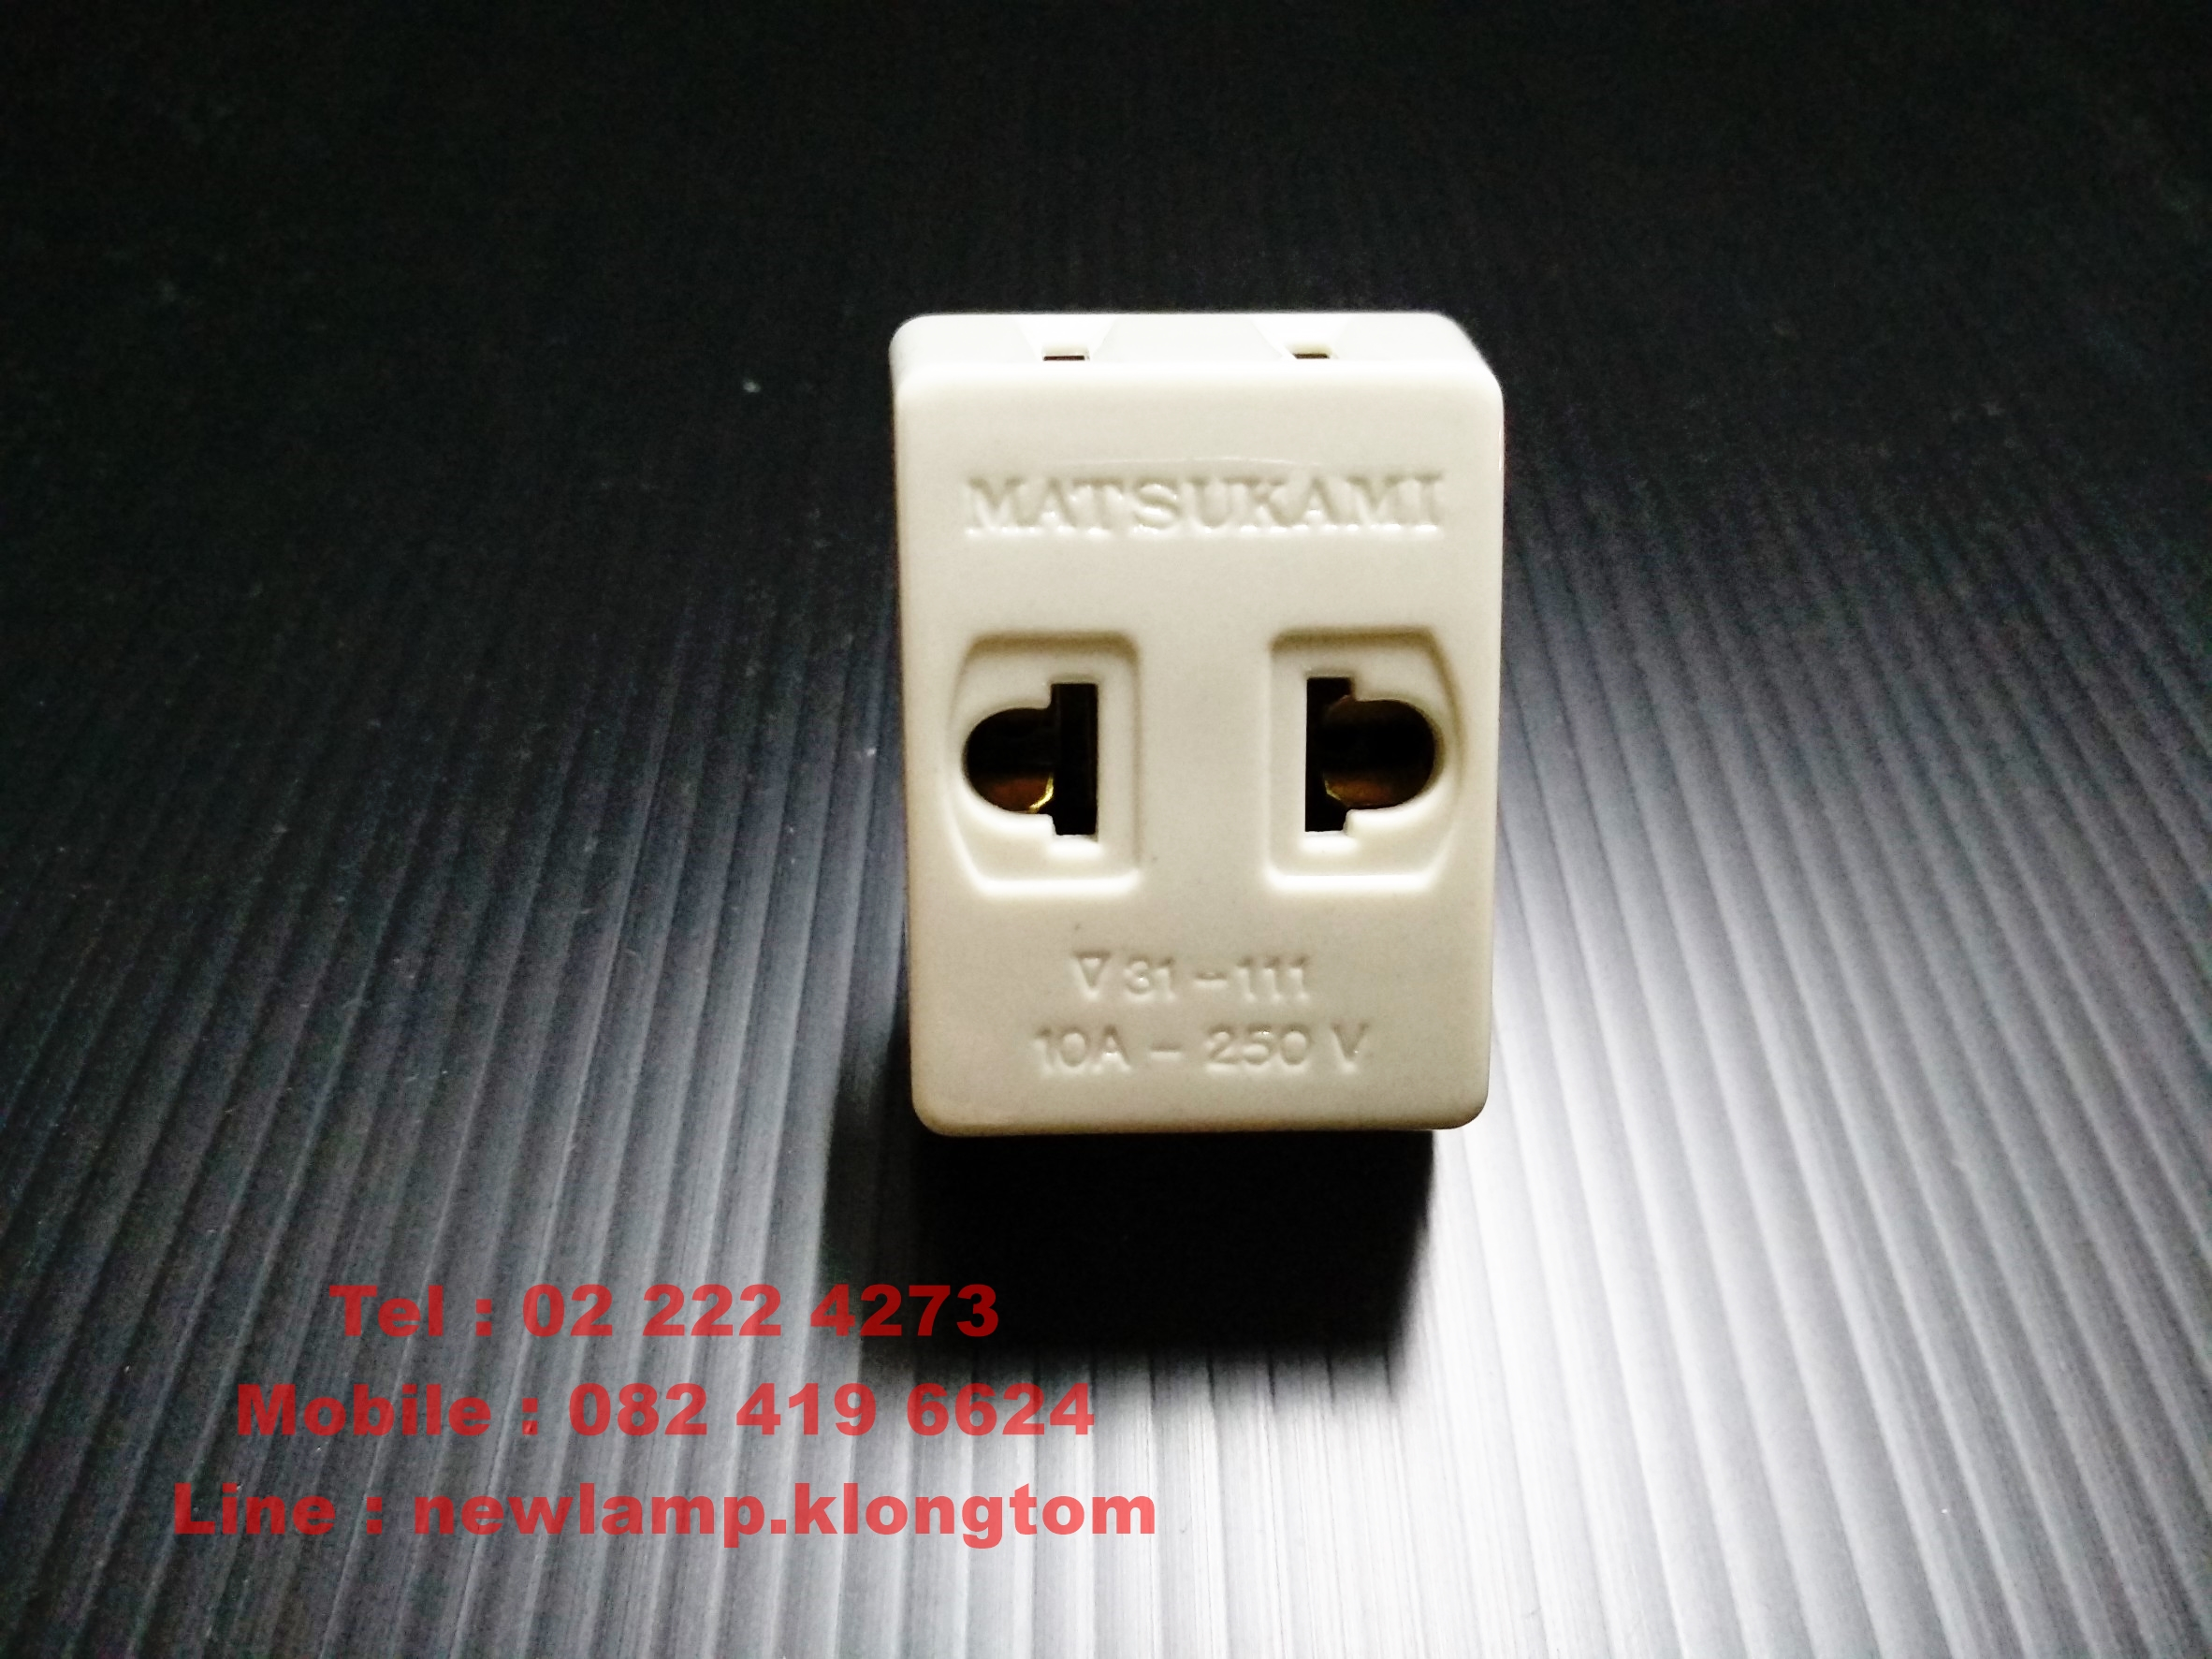Three_eye_plug: (860, 275, 1527, 1169)
